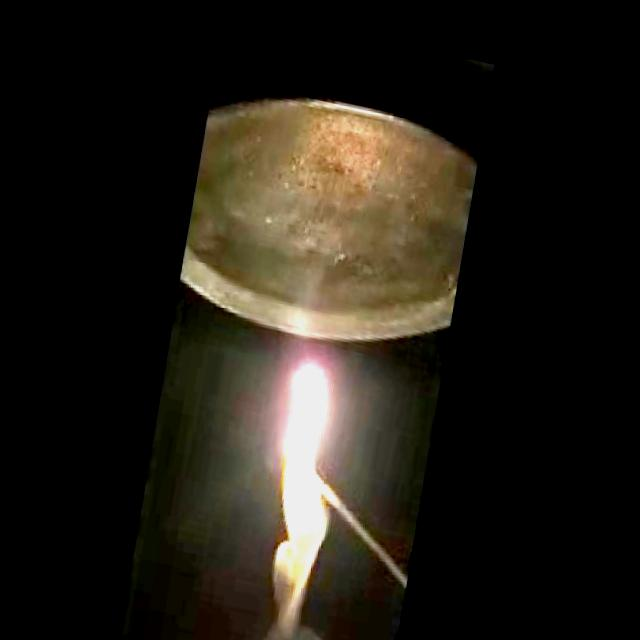Smoke: (251, 356, 356, 622)
